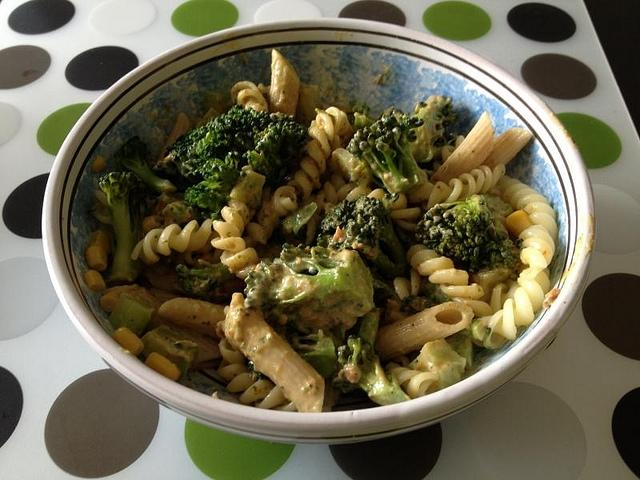broccoli: (244, 244, 374, 344), (414, 194, 520, 274), (163, 104, 270, 177), (345, 106, 428, 196), (316, 194, 404, 275), (330, 336, 412, 406), (98, 171, 141, 284), (114, 135, 178, 193), (405, 337, 467, 395), (409, 94, 461, 163), (140, 325, 198, 379), (286, 329, 338, 380), (176, 258, 237, 298), (272, 202, 318, 249), (108, 293, 154, 337)
